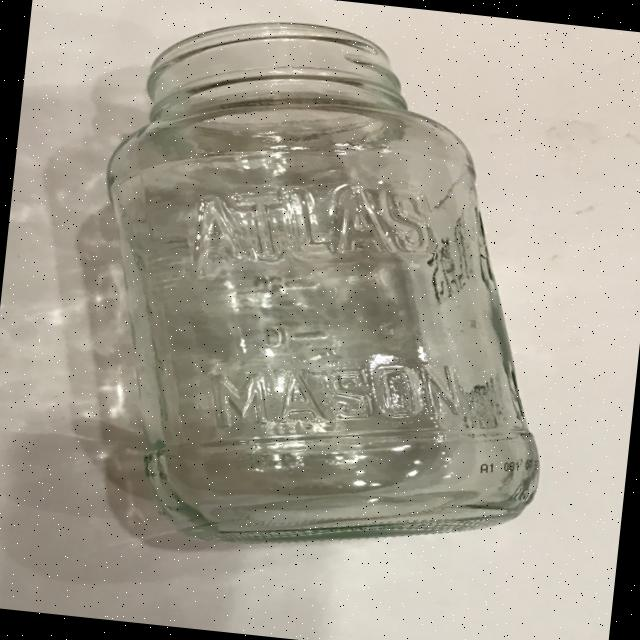glass: (67, 3, 585, 575)
